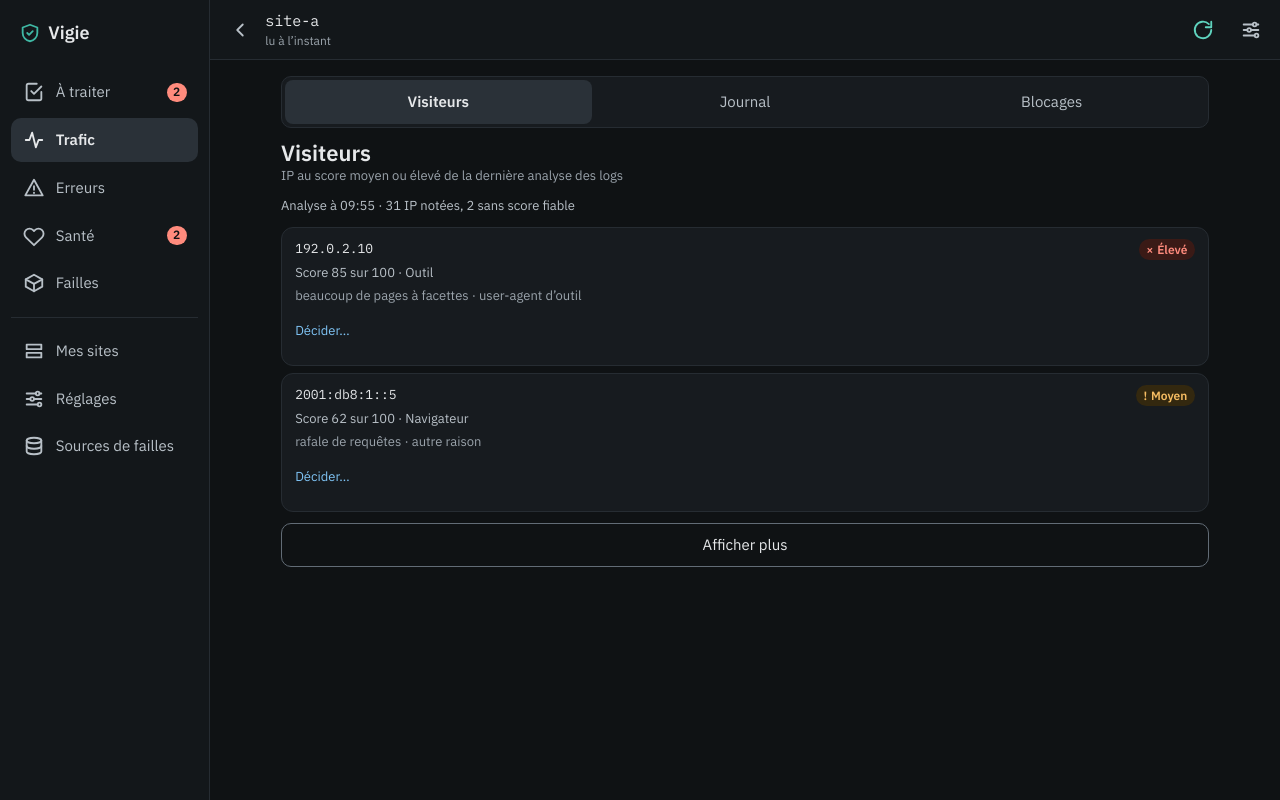
Test: Trafic › Visiteurs : 429 dit quand réessayer, sans relance automatique
Click the button "Afficher plus".
click(745, 545)  # box [281,523,1209,567]
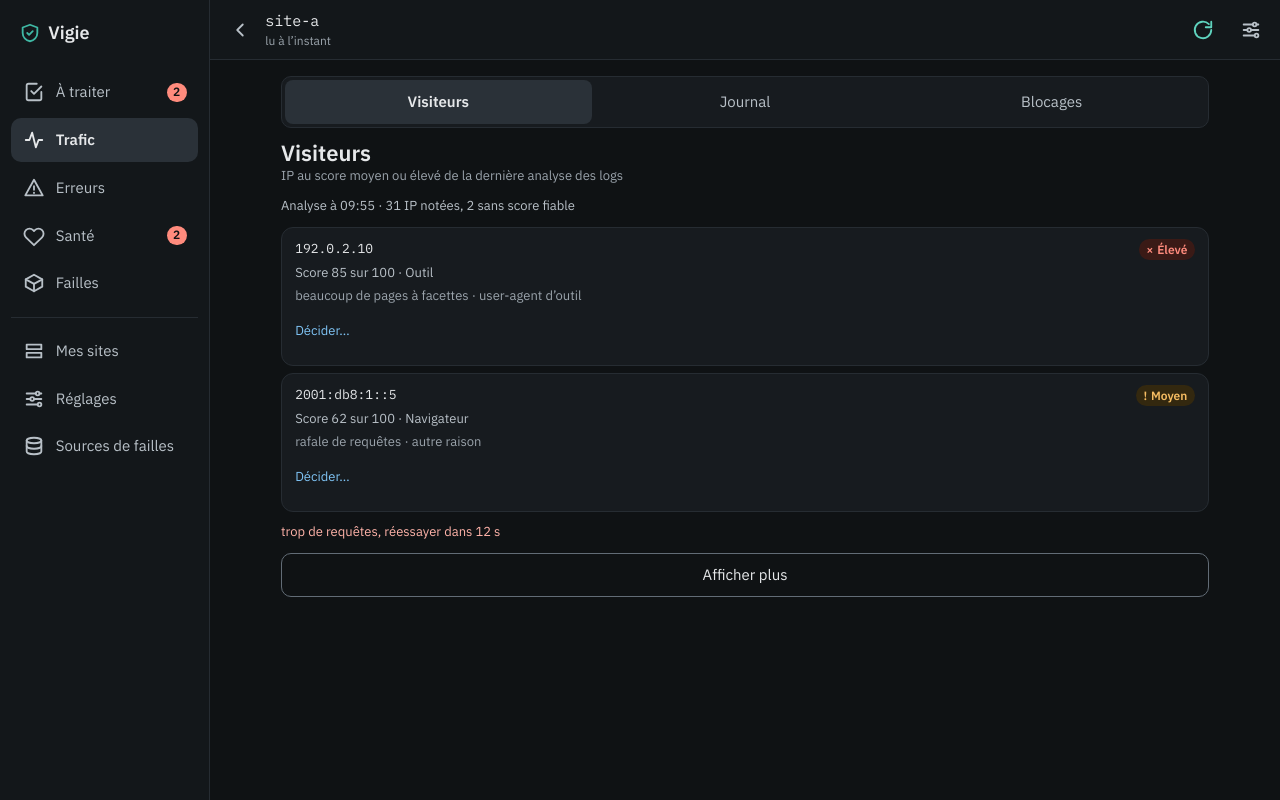
Check: the number of list items is 2, box [281,227,1209,366]; [281,373,1209,512]
Check: the message "trop de requêtes, réessayer dans 12 s" is shown, box [281,523,500,540]
